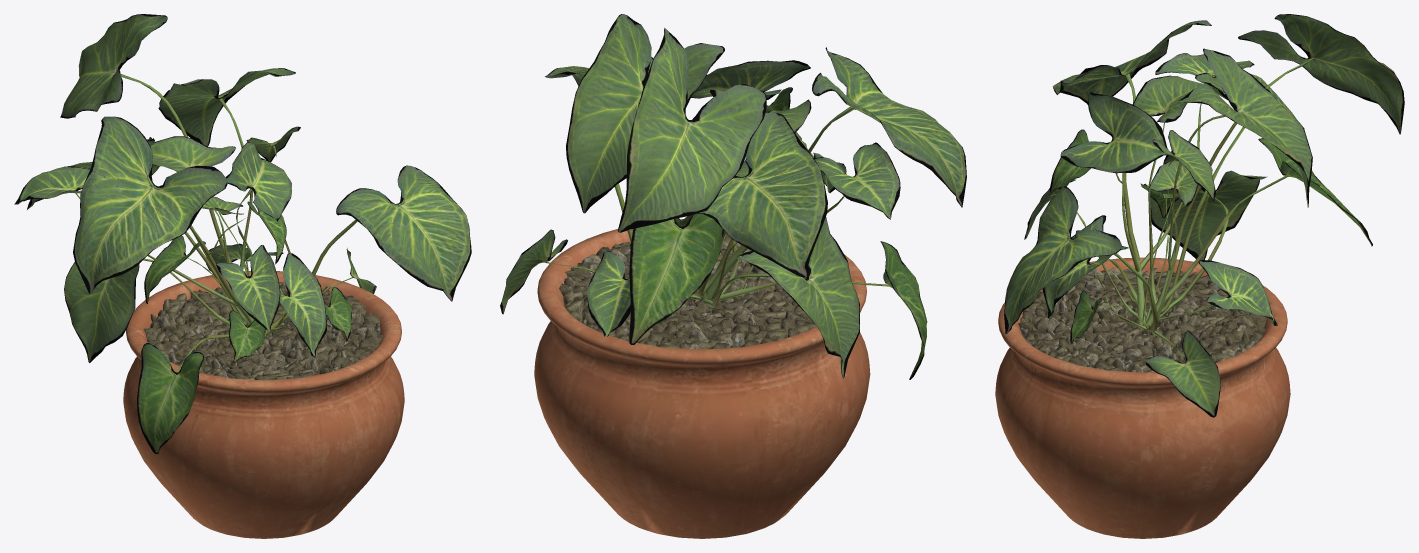
Rendered from potted_plant_02.glb.
3 renders of one model, left to right at view 1: azimuth 30°, elevation 25°; view 2: azimuth 150°, elevation 25°; view 3: azimuth 270°, elevation 25°, orthographic. The views are drawn at different scales.
Visible parts, largest first — view 1: potted_plant_02_leaves, potted_plant_02_pot; view 2: potted_plant_02_leaves, potted_plant_02_pot; view 3: potted_plant_02_pot, potted_plant_02_leaves.
Part boxes in pixels (x1,y1,x2,y2): potted_plant_02_leaves: [14, 14, 471, 453]; potted_plant_02_pot: [123, 271, 404, 538]; potted_plant_02_leaves: [500, 14, 966, 379]; potted_plant_02_pot: [534, 219, 870, 538]; potted_plant_02_pot: [995, 257, 1290, 538]; potted_plant_02_leaves: [1004, 14, 1404, 417].
Size of the model in its own units: 0.7009 by 0.8412 by 0.6574.
2 materials, 2 textured.
